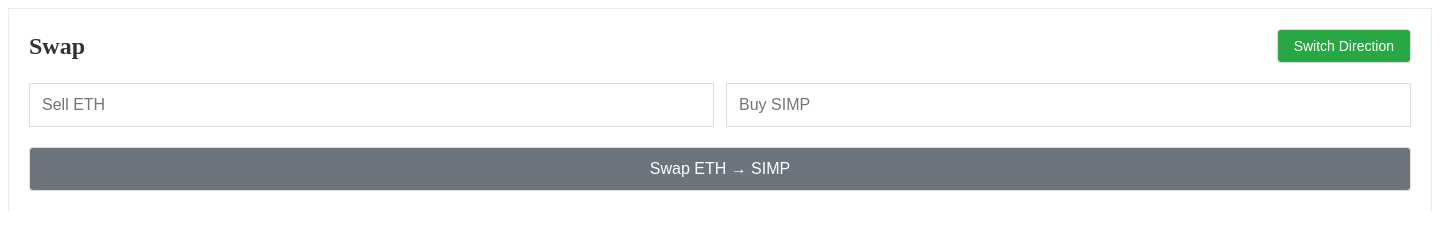
Test: Swap Component › Liquidity Limits › should show "Exceeds Available Liquidity" when ETH output exceeds reserves
Click the button "Switch Direction": coordinates (1344, 46) left=1277, top=29, right=1411, bottom=63
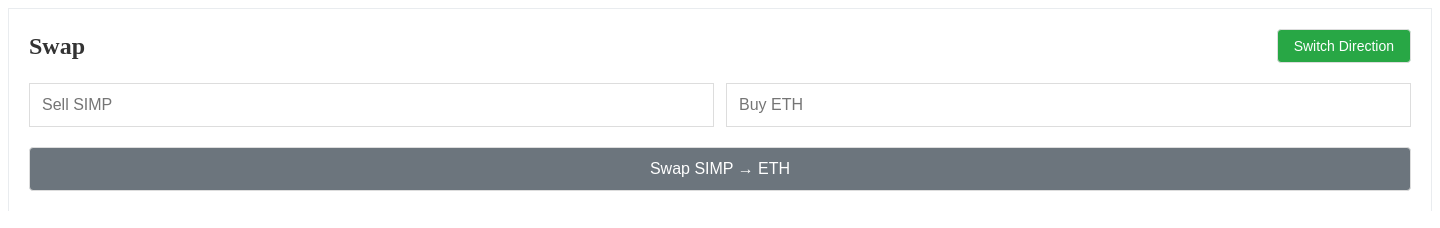
// Try to get more ETH than available in pool (10 ETH total)
In the number field with placeholder "Buy ETH": coordinates (1068, 105) left=726, top=83, right=1411, bottom=127, type "15"
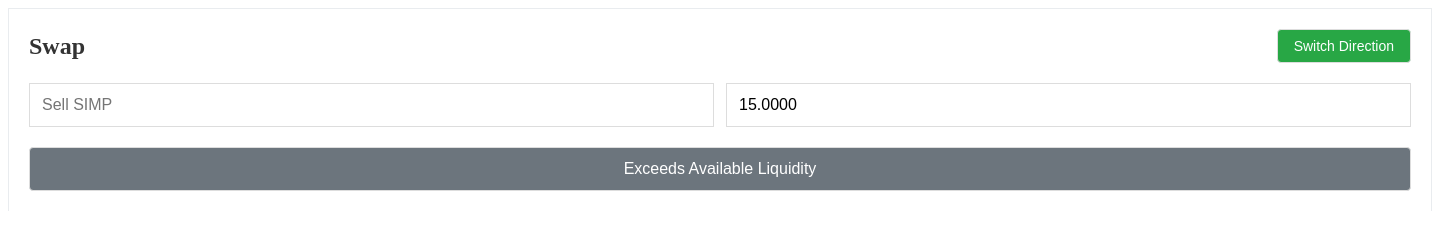
Check: the button "Exceeds Available Liquidity" is disabled, box left=29, top=147, right=1411, bottom=191
Check: the button "Exceeds Available Liquidity" is shown, box left=29, top=147, right=1411, bottom=191
